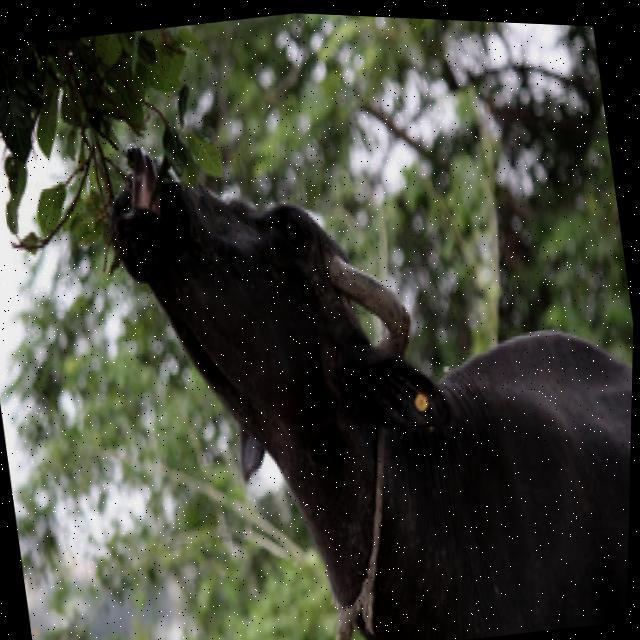Buffalo: (83, 63, 639, 640)
